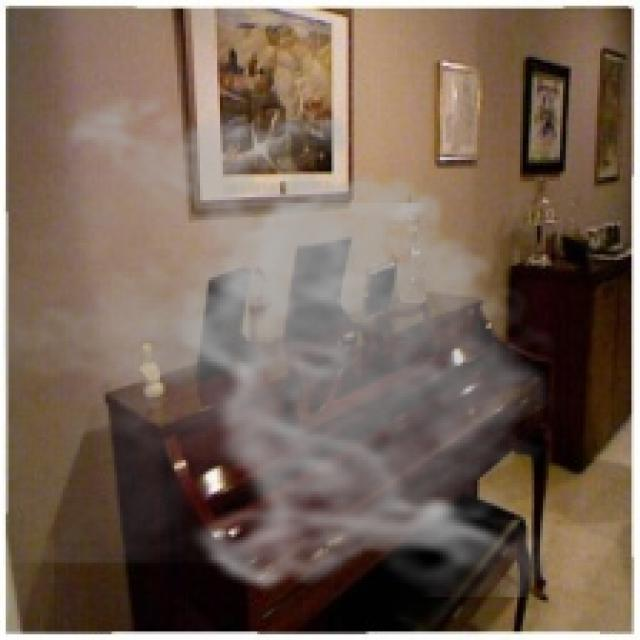smoke: (3, 80, 568, 597)
